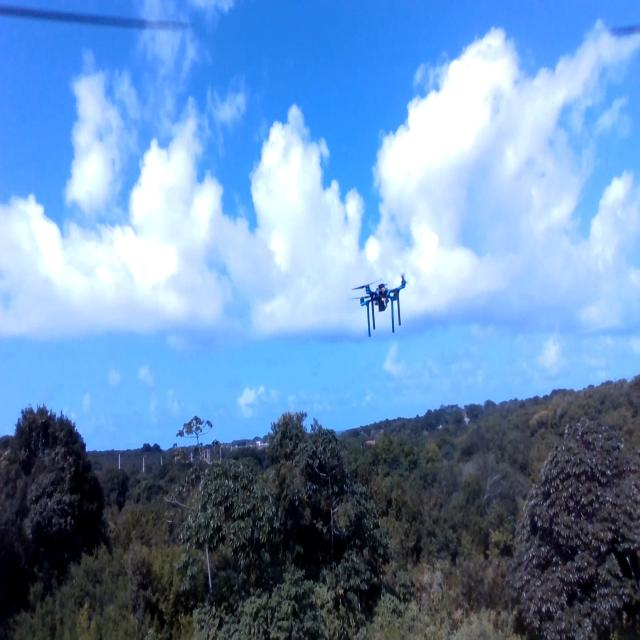-uav-: (348, 265, 417, 345)
